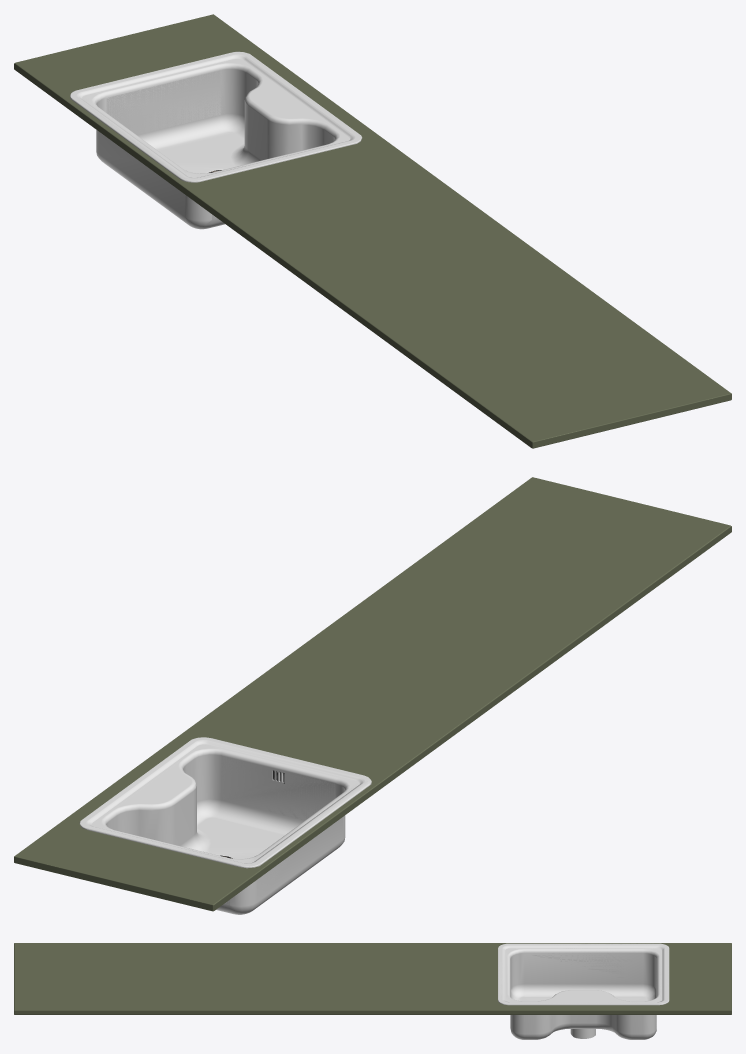
Rendered from furniture_1.glb.
3 renders of one model, top to bottom at view 1: azimuth 30°, elevation 25°; view 2: azimuth 150°, elevation 25°; view 3: azimuth 270°, elevation 25°, orthographic. The views are drawn at different scales.
Visible parts, largest first — view 1: GF_Worktop_SinkWide_v2, GF_SinkWide; view 2: GF_Worktop_SinkWide_v2, GF_SinkWide; view 3: GF_Worktop_SinkWide_v2, GF_SinkWide.
Part boxes in pixels (<box>): GF_Worktop_SinkWide_v2: <box>14,14,731,448</box>; GF_SinkWide: <box>70,51,362,229</box>; GF_Worktop_SinkWide_v2: <box>14,477,731,911</box>; GF_SinkWide: <box>79,737,371,914</box>; GF_Worktop_SinkWide_v2: <box>14,943,731,1014</box>; GF_SinkWide: <box>498,943,669,1039</box>.
Bounding box in the file's own units: 0.5801 × 0.2285 × 2.6.
